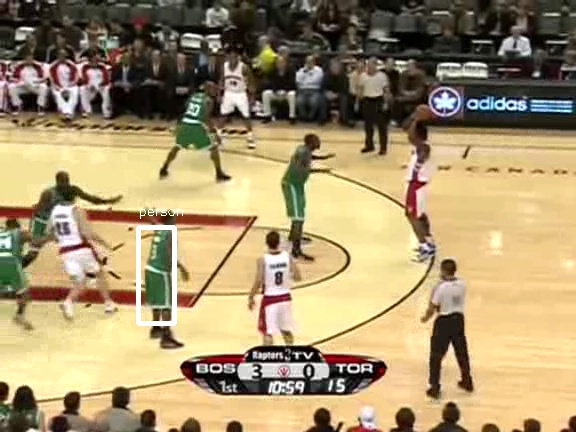person: (144, 231, 178, 312), (143, 231, 177, 312), (145, 231, 179, 312), (144, 230, 178, 311), (144, 232, 178, 313)
target_negative: (203, 64, 566, 379), (268, 17, 486, 208), (126, 185, 252, 355), (284, 161, 337, 329), (287, 400, 449, 426), (280, 197, 392, 228)
